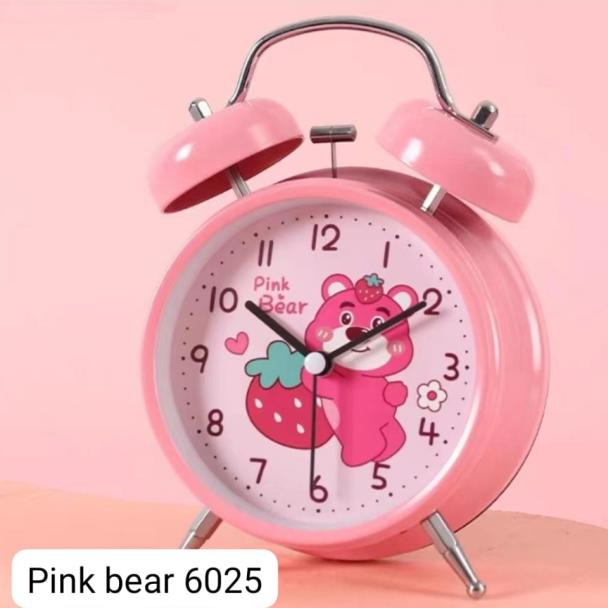Jam: (154, 183, 497, 552)
